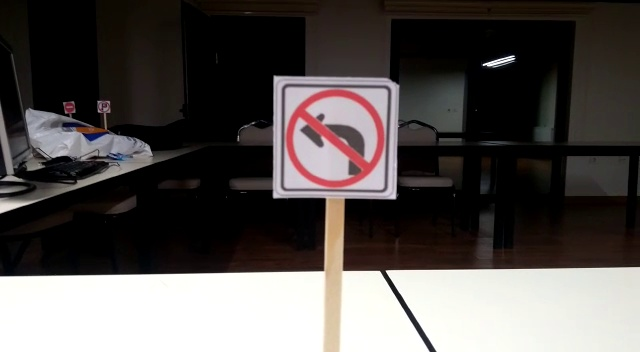sola_donulmez: (280, 90, 386, 195)
